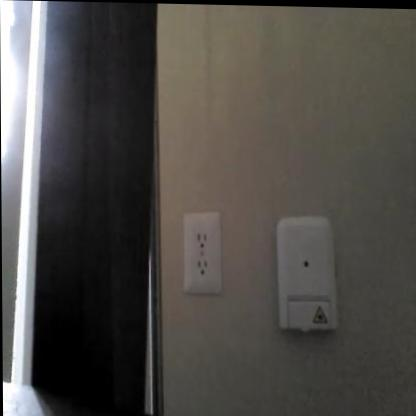OUTLET: (183, 210, 223, 294)
